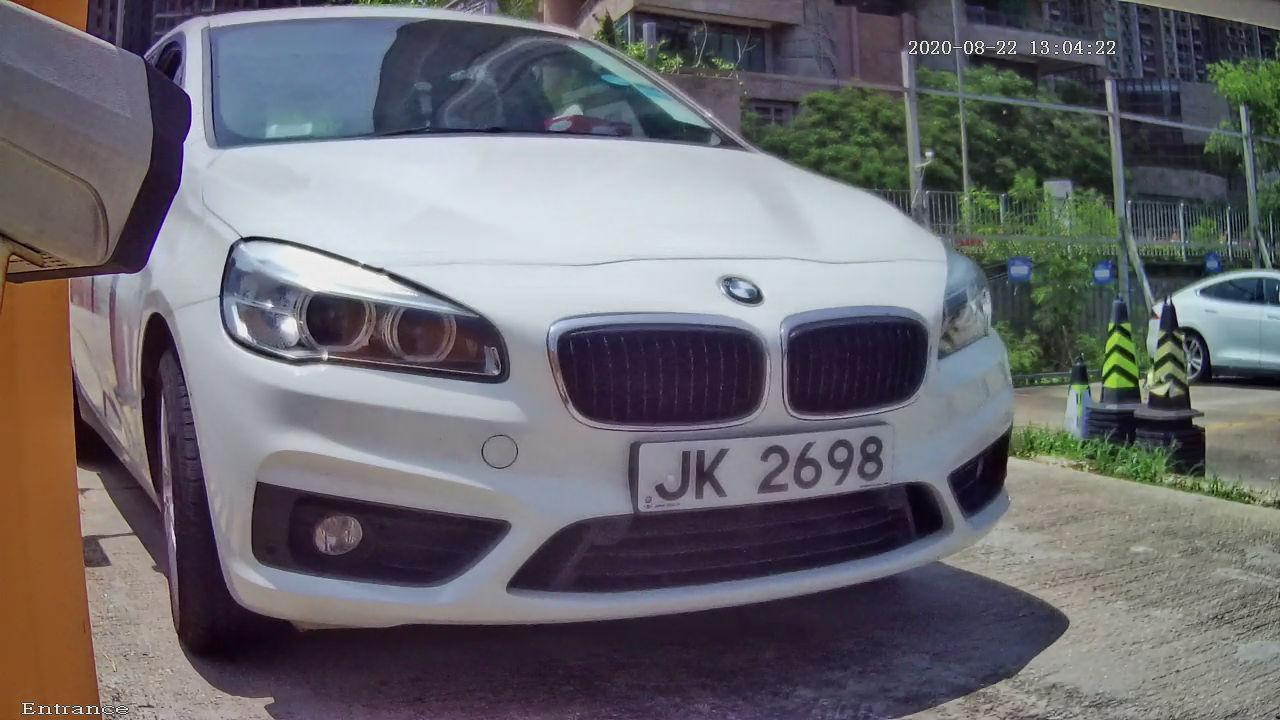Car: (58, 13, 1075, 698)
License Plate: (539, 368, 1001, 555)
